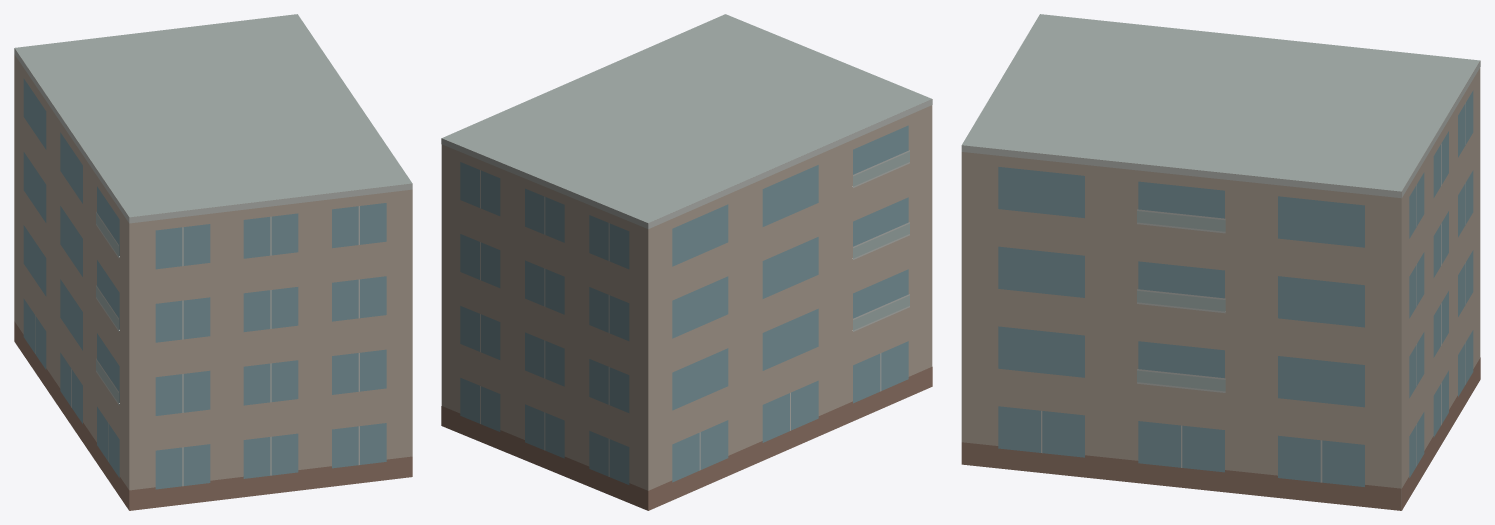
The model's file is survey-upis-32832028.glb.
The picture shows the model from 3 angles, left to right: view 1: azimuth 30°, elevation 25°; view 2: azimuth 150°, elevation 25°; view 3: azimuth 270°, elevation 25°; orthographic projection. The views are drawn at different scales.
Parts seen in each view (by area): view 1: survey-upis-32832028.tmp; view 2: survey-upis-32832028.tmp; view 3: survey-upis-32832028.tmp.
Part boxes in pixels (left/top/right/bottom): survey-upis-32832028.tmp: left=14, top=14, right=412, bottom=510; survey-upis-32832028.tmp: left=441, top=14, right=932, bottom=510; survey-upis-32832028.tmp: left=961, top=14, right=1480, bottom=510.
Bounding box in the file's own units: 13.97 × 11.7 × 17.24.
